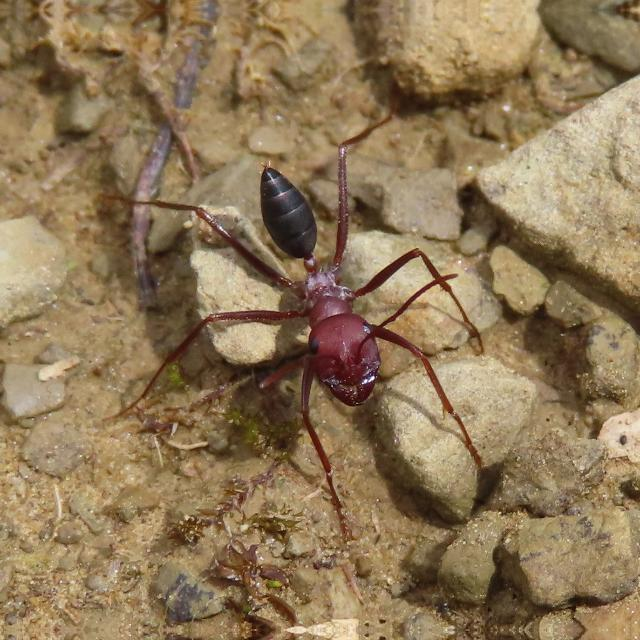Cataglyphis: (215, 134, 435, 426)
